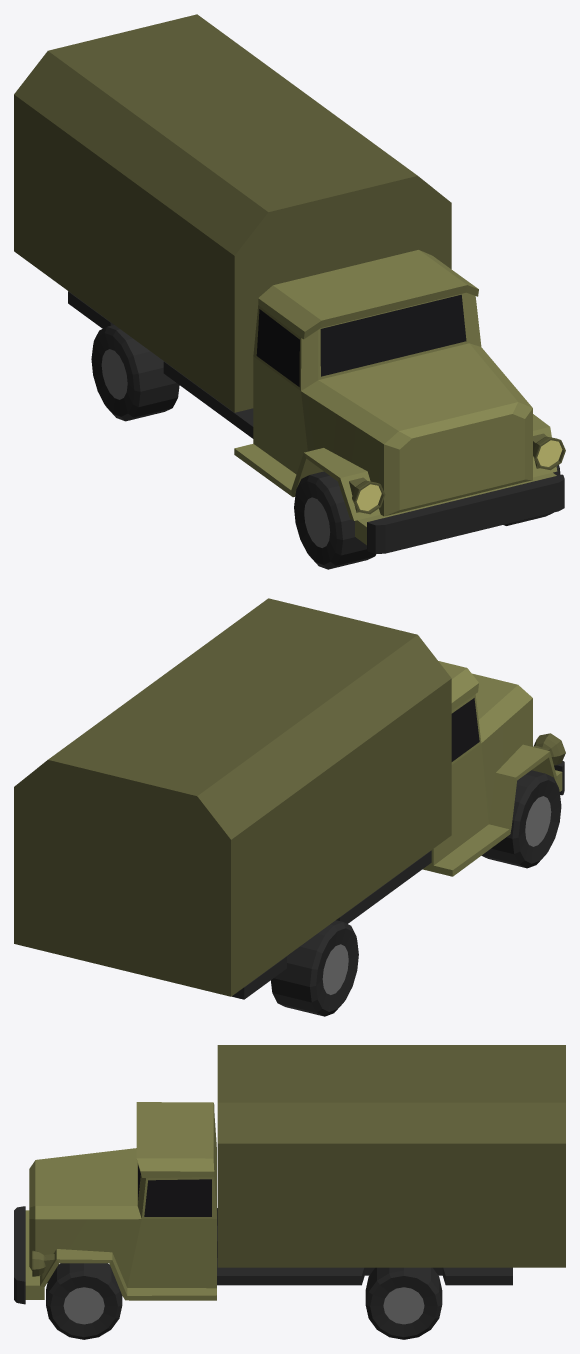
File: Military_Truck_01.fbx
3 renders of one model, top to bottom at view 1: azimuth 30°, elevation 25°; view 2: azimuth 150°, elevation 25°; view 3: azimuth 270°, elevation 25°, orthographic. The views are drawn at different scales.
Parts seen in each view (by area): view 1: Military_Truck_01; view 2: Military_Truck_01; view 3: Military_Truck_01.
Boxes of the visible parts, x1,y1,x2,y2 form: Military_Truck_01: (14,14,565,569); Military_Truck_01: (14,598,565,1016); Military_Truck_01: (14,1045,565,1339).
Size of the model in its own units: 4.06 by 4.9 by 10.94.
